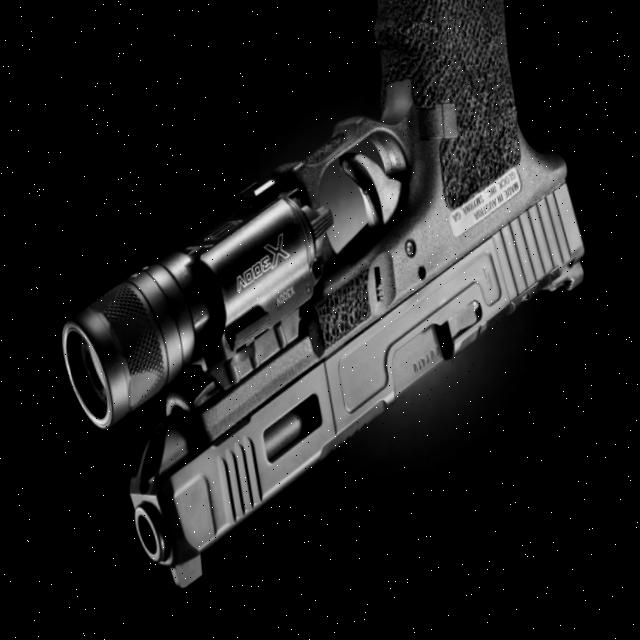pistol: (2, 0, 640, 607)
